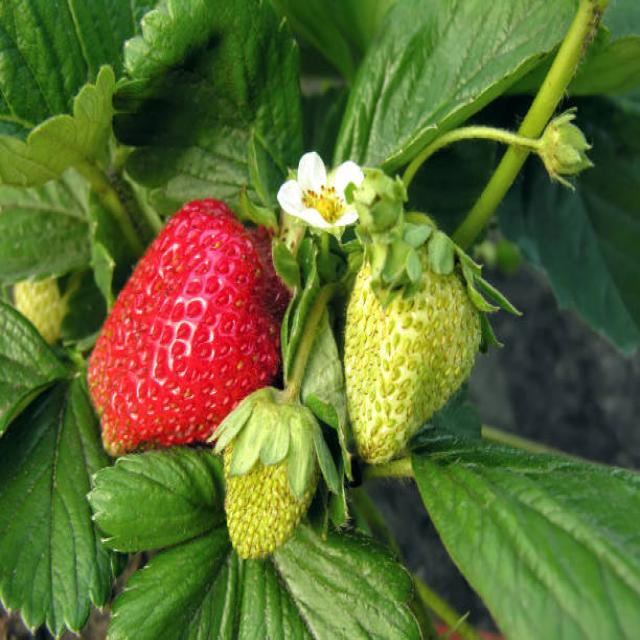Healthy Fruit: (88, 202, 284, 452), (343, 234, 481, 463)
